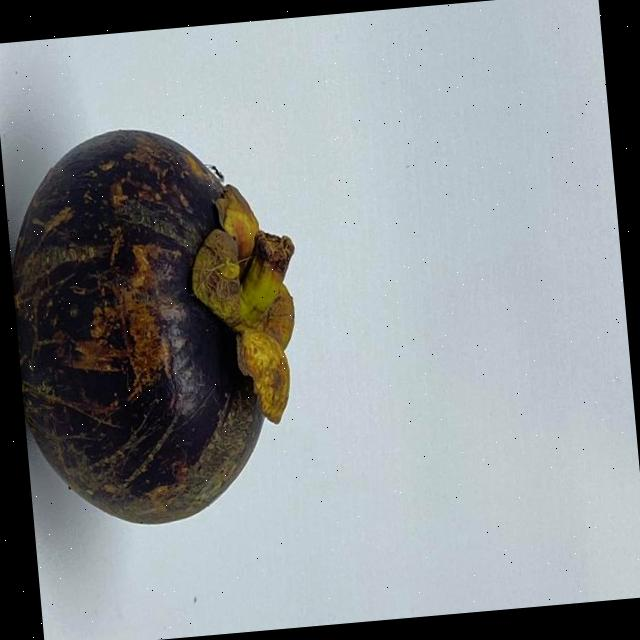mangosteen: (0, 113, 321, 539)
